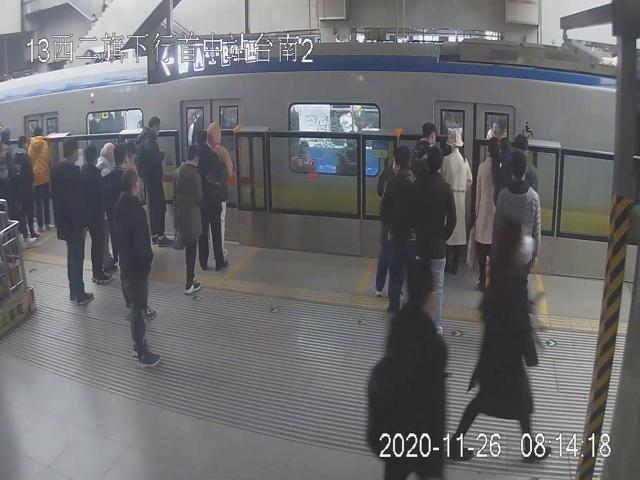person: (109, 166, 165, 369), (415, 140, 458, 334), (48, 132, 94, 307), (379, 144, 422, 308), (495, 151, 546, 264), (193, 126, 228, 273), (172, 141, 203, 301), (438, 126, 471, 276), (80, 144, 109, 284), (410, 117, 448, 170), (200, 122, 238, 170), (94, 131, 116, 178)
